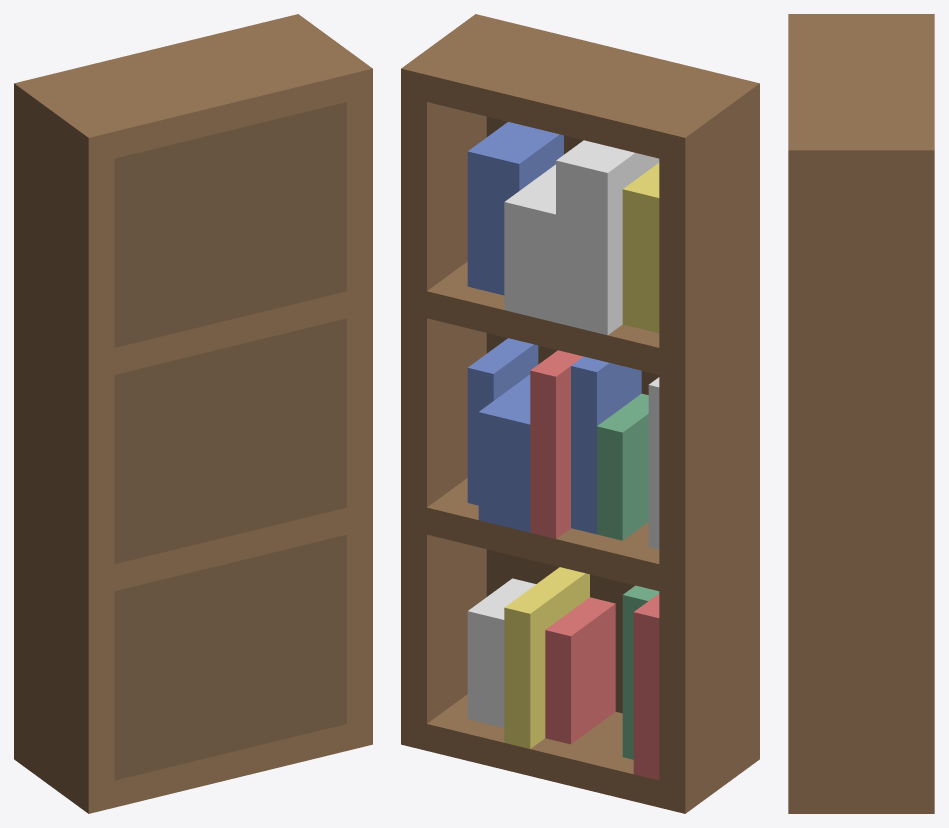
File: big-book-shelf 1.fbx
The picture shows the model from 3 angles, left to right: view 1: azimuth 30°, elevation 25°; view 2: azimuth 150°, elevation 25°; view 3: azimuth 270°, elevation 25°; orthographic projection.
Visible parts, largest first — view 1: Detailed_Bookshelf; view 2: Detailed_Bookshelf; view 3: Detailed_Bookshelf.
Boxes of the visible parts, x1=… form: Detailed_Bookshelf: x1=14, y1=14, x2=372, y2=813; Detailed_Bookshelf: x1=401, y1=14, x2=759, y2=813; Detailed_Bookshelf: x1=788, y1=14, x2=934, y2=813.
Size of the model in its own units: 165 by 375 by 75.
